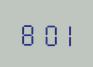eight: (18, 19, 35, 46)
one: (55, 20, 72, 47)
zero: (37, 19, 54, 47)
